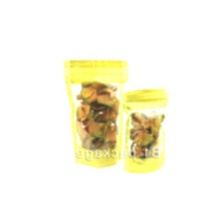snack: (58, 50, 134, 173), (116, 82, 175, 177)
